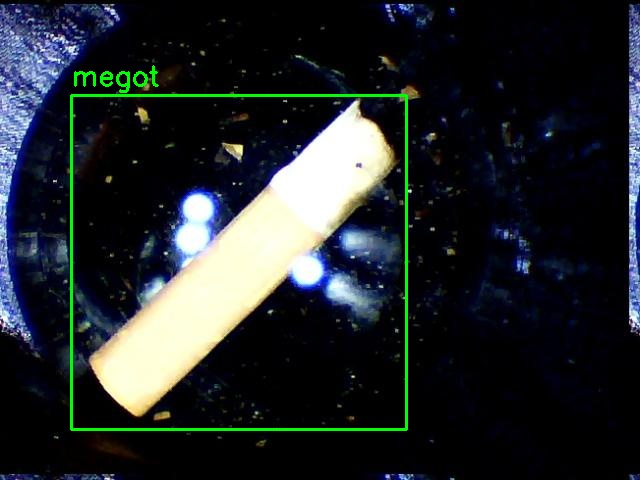megot: (71, 95, 406, 429)
